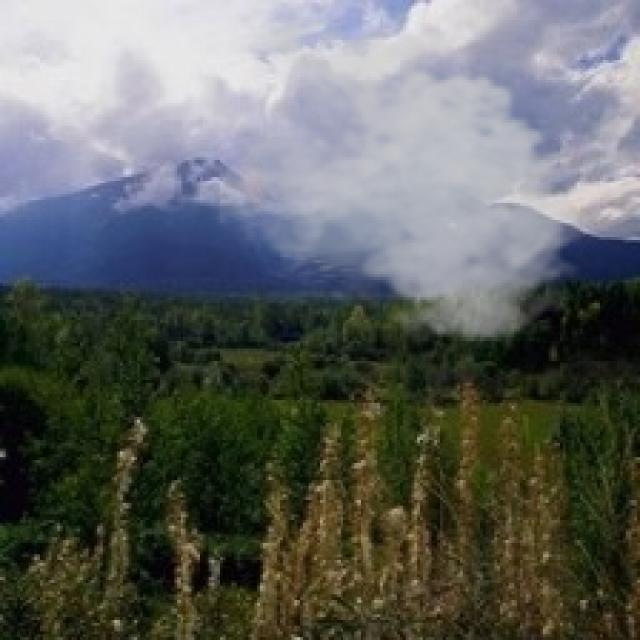smoke: (214, 6, 597, 348)
